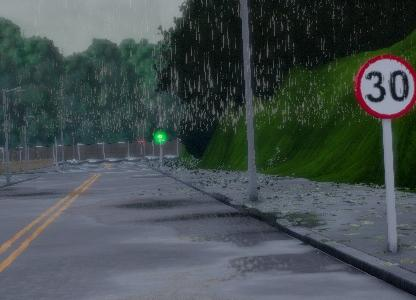Speed_30: (346, 49, 416, 124)
